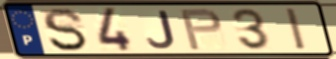3: (231, 7, 270, 51)
4: (94, 5, 134, 53)
I: (283, 7, 310, 52)
J: (145, 9, 178, 50)
P: (177, 7, 224, 52)
S: (40, 6, 90, 53)
